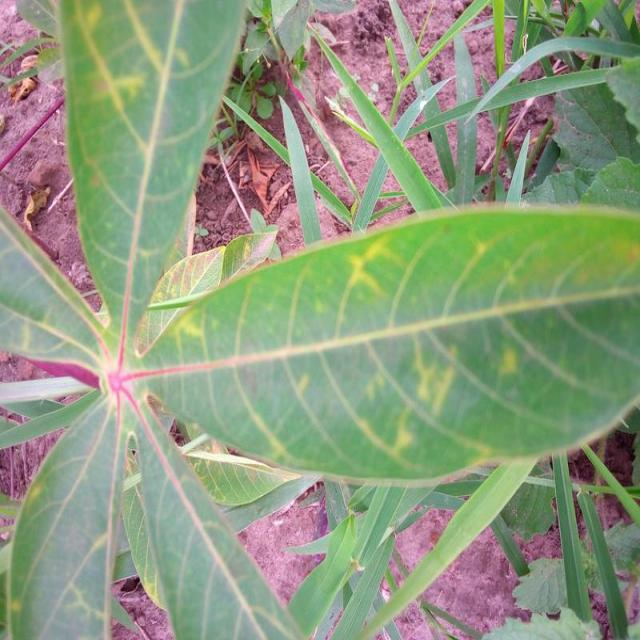cassava leaf: (1, 1, 638, 637), (133, 200, 639, 486), (56, 0, 245, 342)
